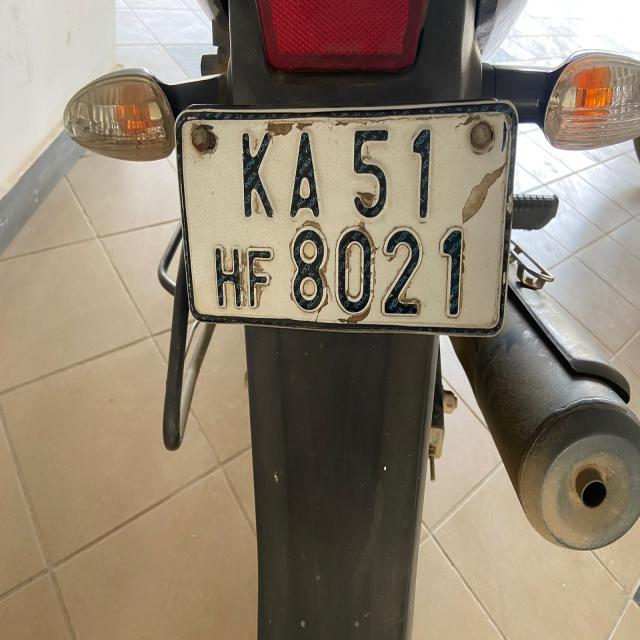0: (333, 219, 380, 318)
1: (406, 118, 441, 222), (434, 222, 469, 324)
5: (347, 111, 393, 223)
8: (289, 219, 334, 315)
A: (288, 124, 324, 219)
F: (244, 243, 281, 312)
H: (210, 239, 249, 314)
K: (236, 130, 278, 226)
